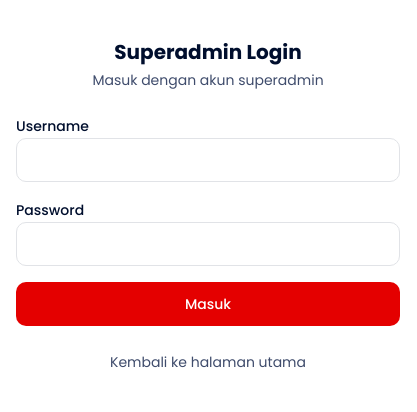
Test: SuperadminSection - login gate › shows non-superadmin error when role is not superadmin
In the field labelled "Username": {"x": 208, "y": 160} [16, 138, 400, 182], type "admin"
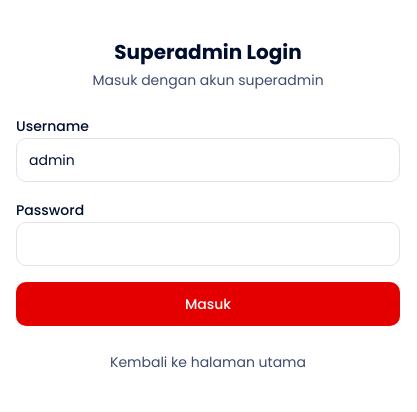
In the password field labelled "Password": {"x": 208, "y": 244} [16, 222, 400, 266], type "pass"
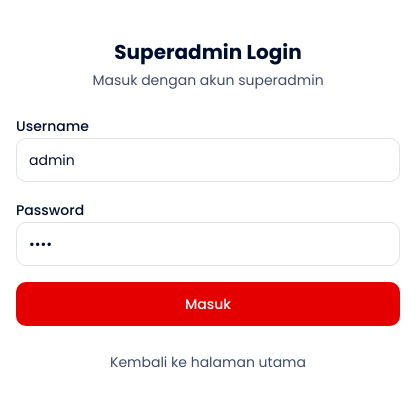
Submit the form "Masuk", box [16, 114, 400, 326]
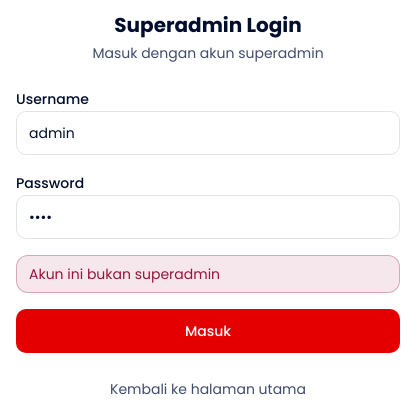
Expected: the text "Akun ini bukan superadmin" is shown, [29, 264, 220, 284]
